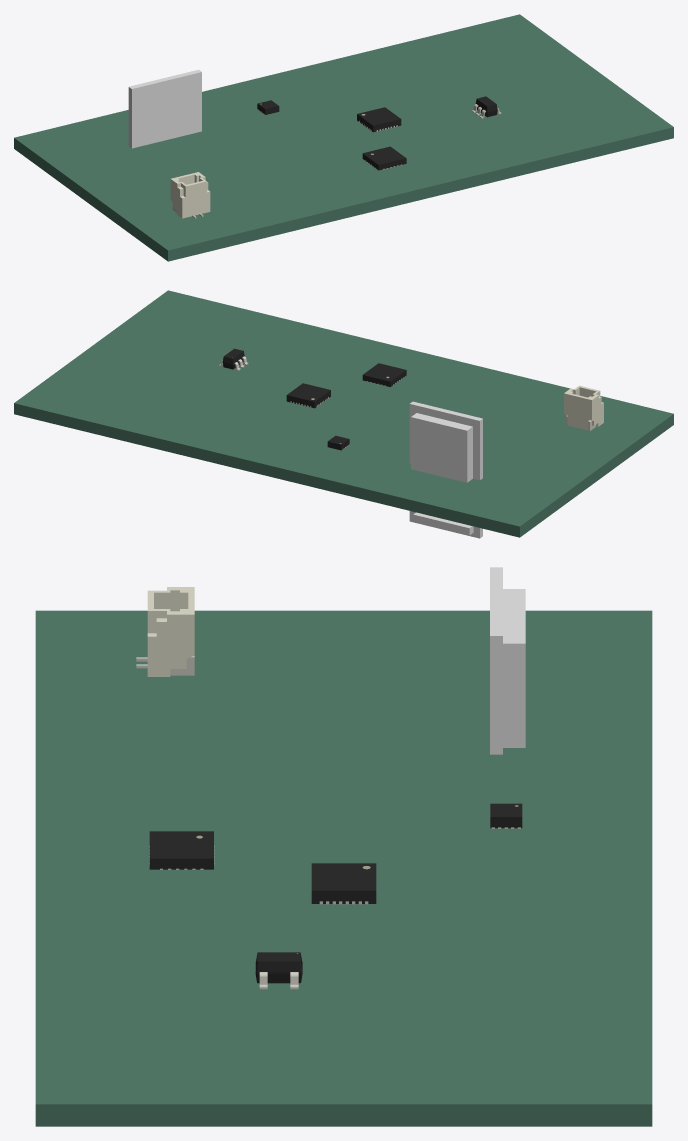
File: initial.glb
3 renders of one model, top to bottom at view 1: azimuth 30°, elevation 25°; view 2: azimuth 150°, elevation 25°; view 3: azimuth 270°, elevation 25°, orthographic. The views are drawn at different scales.
Visible parts, largest first — view 1: =>[0:1:1:14], =>[0:1:1:11], =>[0:1:1:5], =>[0:1:1:13], =>[0:1:1:3], =>[0:1:1:7]; view 2: =>[0:1:1:14], =>[0:1:1:11], =>[0:1:1:5], =>[0:1:1:13], =>[0:1:1:3], =>[0:1:1:7]; view 3: =>[0:1:1:14], =>[0:1:1:11], =>[0:1:1:5], =>[0:1:1:13], =>[0:1:1:3], =>[0:1:1:7], =>[0:1:1:9].
Boxes of the visible parts, x1=… form: =>[0:1:1:14]: x1=14, y1=14, x2=673, y2=261; =>[0:1:1:11]: x1=128, y1=69, x2=201, y2=148; =>[0:1:1:5]: x1=170, y1=172, x2=210, y2=218; =>[0:1:1:13]: x1=357, y1=107, x2=401, y2=132; =>[0:1:1:3]: x1=362, y1=146, x2=406, y2=170; =>[0:1:1:7]: x1=472, y1=96, x2=501, y2=118; =>[0:1:1:14]: x1=14, y1=290, x2=673, y2=537; =>[0:1:1:11]: x1=409, y1=401, x2=482, y2=538; =>[0:1:1:5]: x1=564, y1=385, x2=603, y2=431; =>[0:1:1:13]: x1=286, y1=383, x2=330, y2=408; =>[0:1:1:3]: x1=362, y1=363, x2=406, y2=387; =>[0:1:1:7]: x1=219, y1=348, x2=248, y2=370; =>[0:1:1:14]: x1=35, y1=610, x2=652, y2=1126; =>[0:1:1:11]: x1=490, y1=567, x2=525, y2=754; =>[0:1:1:5]: x1=136, y1=587, x2=194, y2=676; =>[0:1:1:13]: x1=311, y1=863, x2=376, y2=904; =>[0:1:1:3]: x1=149, y1=831, x2=214, y2=869; =>[0:1:1:7]: x1=255, y1=952, x2=302, y2=989; =>[0:1:1:9]: x1=490, y1=803, x2=522, y2=828.
Bounding box in the file's own units: 0.072 × 0.016 × 0.038.
